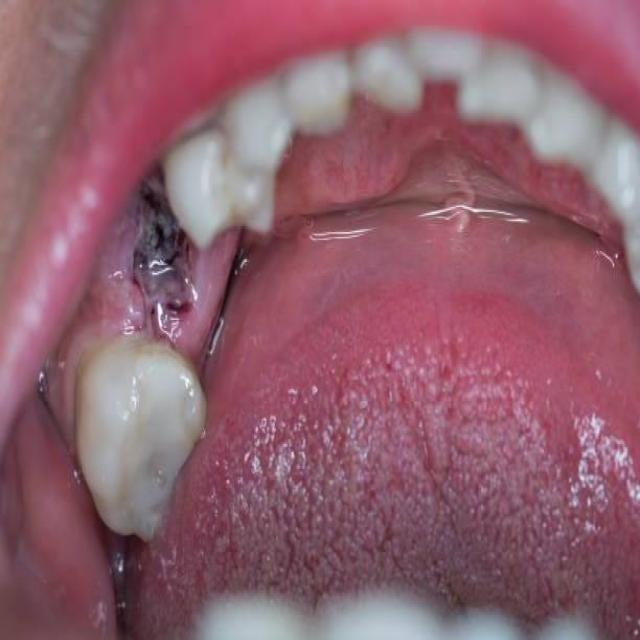caries: (121, 204, 200, 338)
